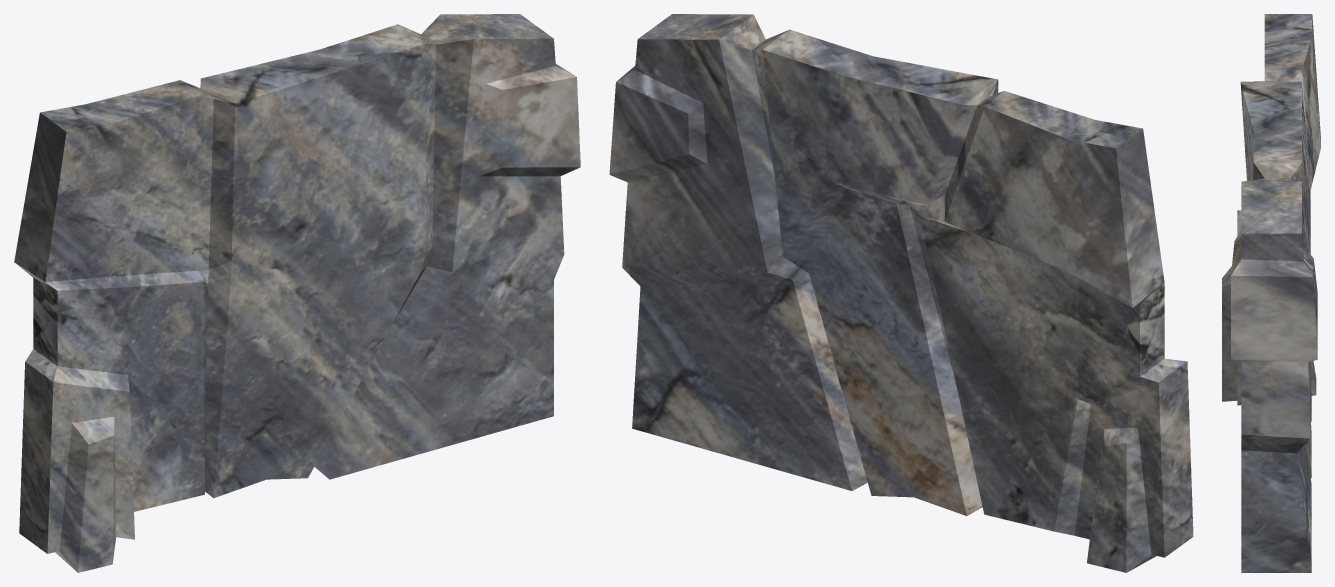
The model's file is RockWall_8.fbx.
3 views of the same model, side by side, from view 1: azimuth 30°, elevation 25°; view 2: azimuth 150°, elevation 25°; view 3: azimuth 270°, elevation 25° (orthographic). The views are drawn at different scales.
Visible parts, largest first — view 1: pCube8; view 2: pCube8; view 3: pCube8.
Boxes of the visible parts, x1,y1,x2,y2 form: pCube8: (14, 14, 580, 572); pCube8: (609, 14, 1193, 572); pCube8: (1222, 14, 1320, 572).
Size of the model in its own units: 20.02 by 15.43 by 3.6.
